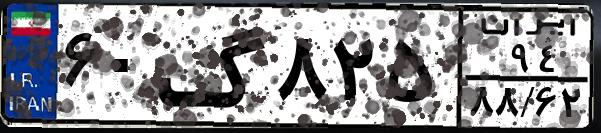0: (110, 28, 156, 98)
2: (330, 28, 385, 110), (560, 70, 590, 125)
4: (537, 27, 568, 80)
5: (385, 28, 445, 110)
6: (57, 26, 110, 100), (535, 70, 560, 125)
8: (270, 28, 330, 110), (470, 70, 495, 125), (495, 70, 520, 125)
9: (508, 27, 537, 80)
گ: (156, 12, 270, 120)
